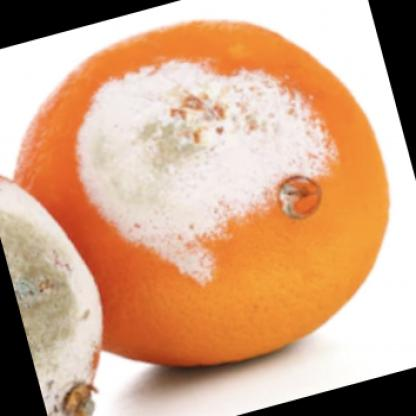rotten_orange: (15, 19, 401, 373)
